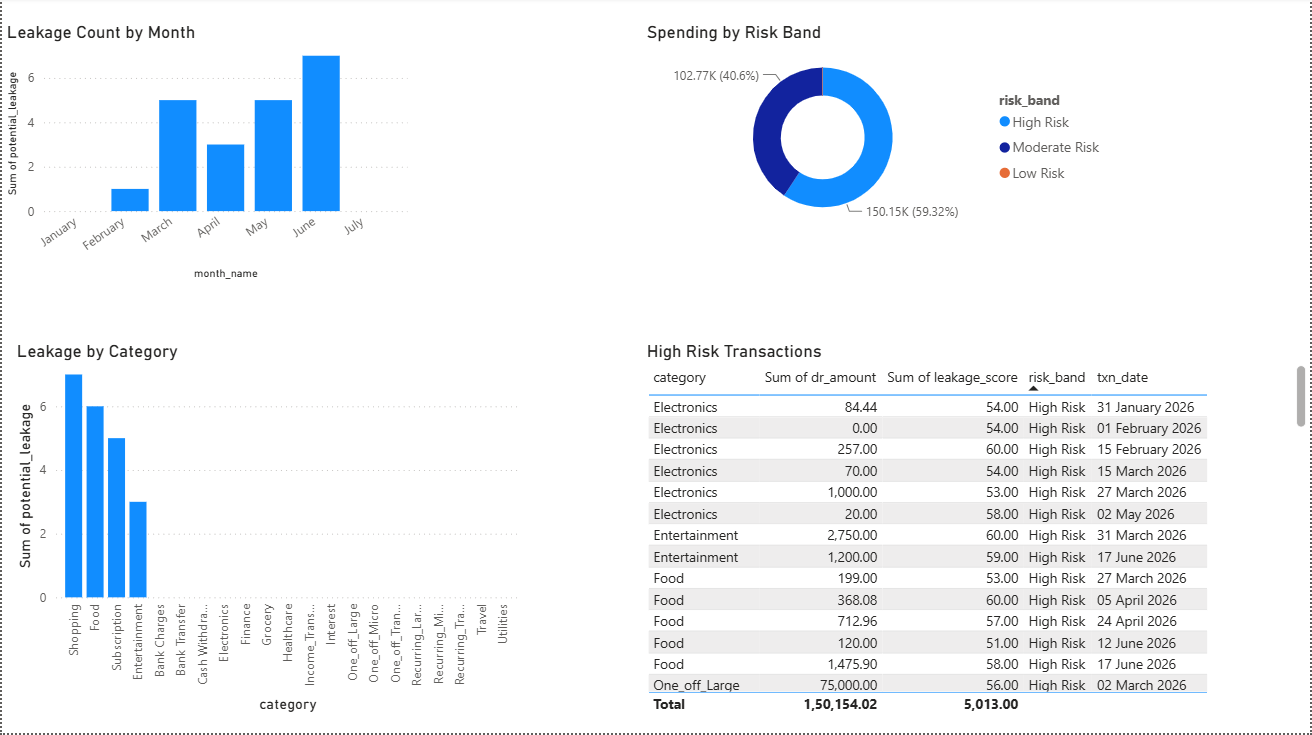

This screenshot's page, from the dashboard's own definition file:
{"tool":"powerbi","page":{"name":"Leakage Analysis","canvas":[1280,720],"ordinal":1},"visuals":[{"type":"clusteredColumnChart","title":"Leakage Count by Month","fields":{"Category":["public transactions.month_name"],"Y":["Sum(public transactions.potential_leakage)"]},"box":[10,0,402,257],"z":0},{"type":"donutChart","title":"Spending by Risk Band","fields":{"Category":["public transactions.risk_band"],"Y":["Sum(public transactions.dr_amount)"]},"box":[481,0,461,207],"z":1},{"type":"clusteredColumnChart","title":"Leakage by Category","fields":{"Category":["public transactions.category"],"Y":["Sum(public transactions.potential_leakage)"]},"box":[10,302,395,369],"z":2},{"type":"tableEx","title":"High Risk Transactions","fields":{"Values":["public transactions.category","Sum(public transactions.dr_amount)","Sum(public transactions.leakage_score)","public transactions.risk_band","public transactions.txn_date"]},"box":[481,302,654,369],"z":3}]}

Visuals, with their boxes in screenshot pixels (x1, y1, x2, y2), scaled from the page's 1280x720 canvas onto the 1312x735 screenshot:
"Leakage Count by Month" clusteredColumnChart: [left=10, top=0, right=422, bottom=262]
"Spending by Risk Band" donutChart: [left=493, top=0, right=966, bottom=211]
"Leakage by Category" clusteredColumnChart: [left=10, top=308, right=415, bottom=685]
"High Risk Transactions" tableEx: [left=493, top=308, right=1163, bottom=685]
